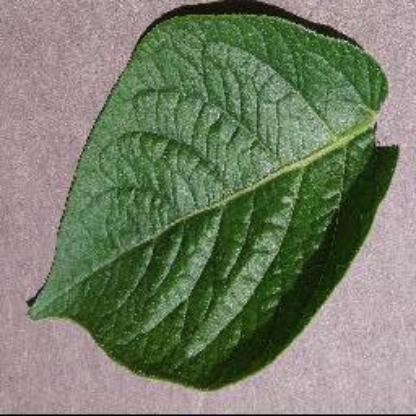Healthy-plant: (27, 12, 401, 390)
